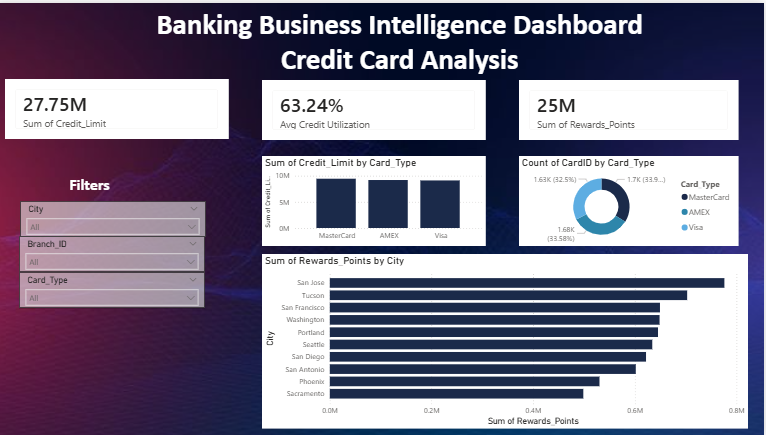

The page's visual inventory and layout, read from the dashboard file:
{"tool":"powerbi","page":{"name":"Credit Card Analysis","canvas":[1280,720],"ordinal":4},"visuals":[{"type":"textbox","box":[128.6,0,1088.6,167.1],"z":0},{"type":"cardVisual","fields":{"Data":["Sum(Banking_Capstone_Cleaned_Dataset.Credit_Limit)"]},"box":[14.3,127.1,372.9,100],"z":1},{"type":"cardVisual","fields":{"Data":["Banking_Capstone_Cleaned_Dataset.Avg Credit Utilization"]},"box":[442.9,128.6,372.9,100],"z":2},{"type":"cardVisual","fields":{"Data":["Sum(Banking_Capstone_Cleaned_Dataset.Rewards_Points)"]},"box":[871.4,128.6,365.7,100],"z":3},{"type":"slicer","fields":{"Values":["Banking_Capstone_Cleaned_Dataset.City"]},"box":[39.2,329.3,310,60],"z":4},{"type":"slicer","fields":{"Values":["Banking_Capstone_Cleaned_Dataset.Branch_ID"]},"box":[38.9,389.1,310,60],"z":5},{"type":"textbox","box":[38.4,282,234.7,47.5],"z":6},{"type":"slicer","fields":{"Values":["Banking_Capstone_Cleaned_Dataset.Card_Type"]},"box":[38.4,448.9,310,60.5],"z":7},{"type":"clusteredColumnChart","fields":{"Category":["Banking_Capstone_Cleaned_Dataset.Card_Type"],"Y":["Sum(Banking_Capstone_Cleaned_Dataset.Credit_Limit)"]},"box":[442.9,254.3,372.9,150],"z":8},{"type":"donutChart","fields":{"Category":["Banking_Capstone_Cleaned_Dataset.Card_Type"],"Y":["CountNonNull(Banking_Capstone_Cleaned_Dataset.CardID)"]},"box":[871.4,254.3,365.7,150],"z":9},{"type":"clusteredBarChart","fields":{"Y":["Sum(Banking_Capstone_Cleaned_Dataset.Rewards_Points)"],"Category":["Banking_Capstone_Cleaned_Dataset.City"]},"box":[442.9,418.6,810,291.4],"z":10}]}

Visuals, with their boxes in screenshot pixels (x1, y1, x2, y2), scaled from the page's 1280x720 canvas onto the 766x435 screenshot:
textbox: crop(77, 0, 728, 101)
cardVisual - Sum(Banking_Capstone_Cleaned_Dataset.Credit_Limit): crop(9, 77, 232, 137)
cardVisual - Banking_Capstone_Cleaned_Dataset.Avg Credit Utilization: crop(265, 78, 488, 138)
cardVisual - Sum(Banking_Capstone_Cleaned_Dataset.Rewards_Points): crop(521, 78, 740, 138)
slicer - Banking_Capstone_Cleaned_Dataset.City: crop(23, 199, 209, 235)
slicer - Banking_Capstone_Cleaned_Dataset.Branch_ID: crop(23, 235, 209, 271)
textbox: crop(23, 170, 163, 199)
slicer - Banking_Capstone_Cleaned_Dataset.Card_Type: crop(23, 271, 208, 308)
clusteredColumnChart - Banking_Capstone_Cleaned_Dataset.Card_Type x Sum(Banking_Capstone_Cleaned_Dataset.Credit_Limit): crop(265, 154, 488, 244)
donutChart - Banking_Capstone_Cleaned_Dataset.Card_Type x CountNonNull(Banking_Capstone_Cleaned_Dataset.CardID): crop(521, 154, 740, 244)
clusteredBarChart - Sum(Banking_Capstone_Cleaned_Dataset.Rewards_Points) x Banking_Capstone_Cleaned_Dataset.City: crop(265, 253, 750, 429)
